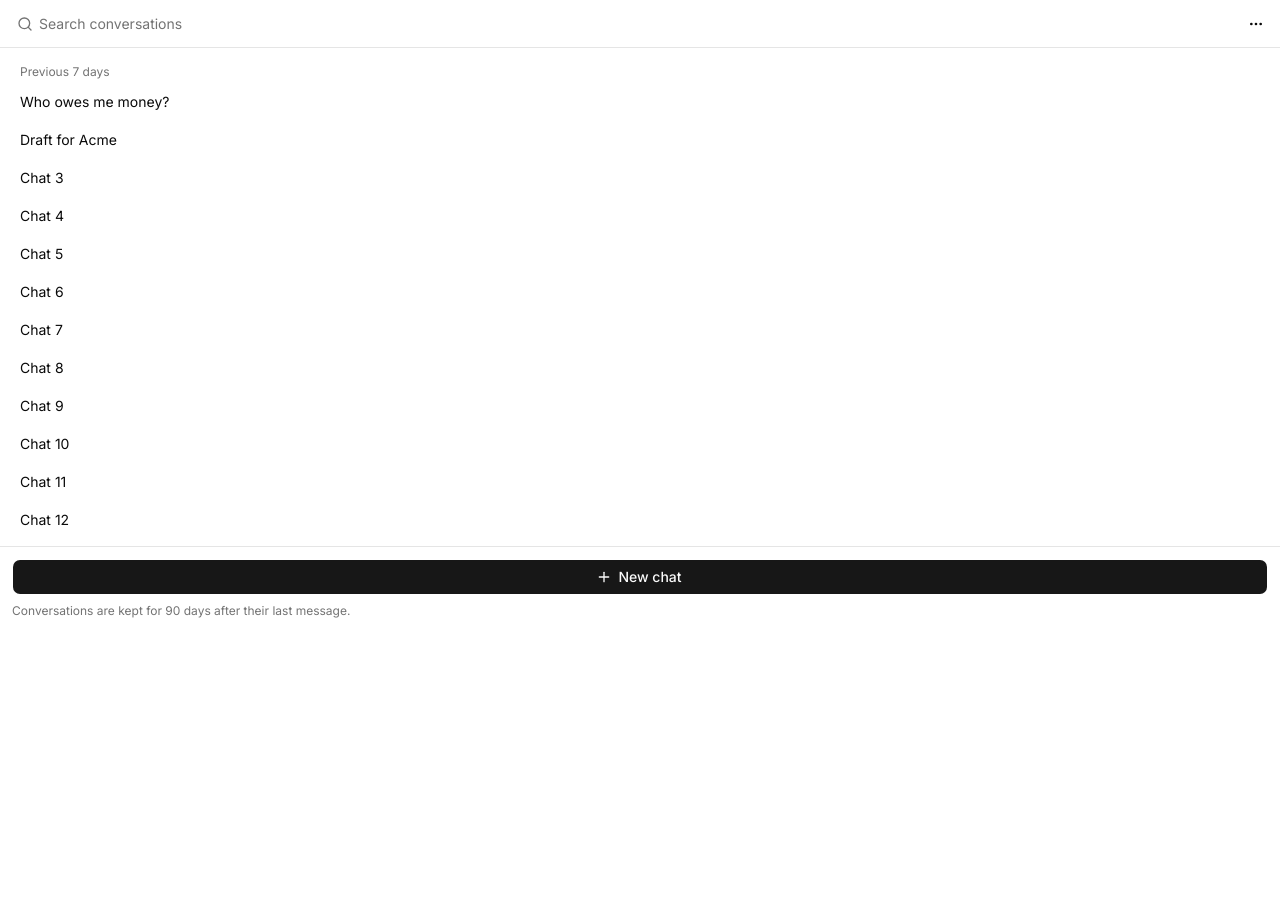
it: SCR-04 delete Conversations dialog (T30, AC-37) › default (all) from "Delete all" › cancelled: nothing is deleted
Click the button named "Conversation actions".
click(1256, 24)  # box [1240,8,1272,40]
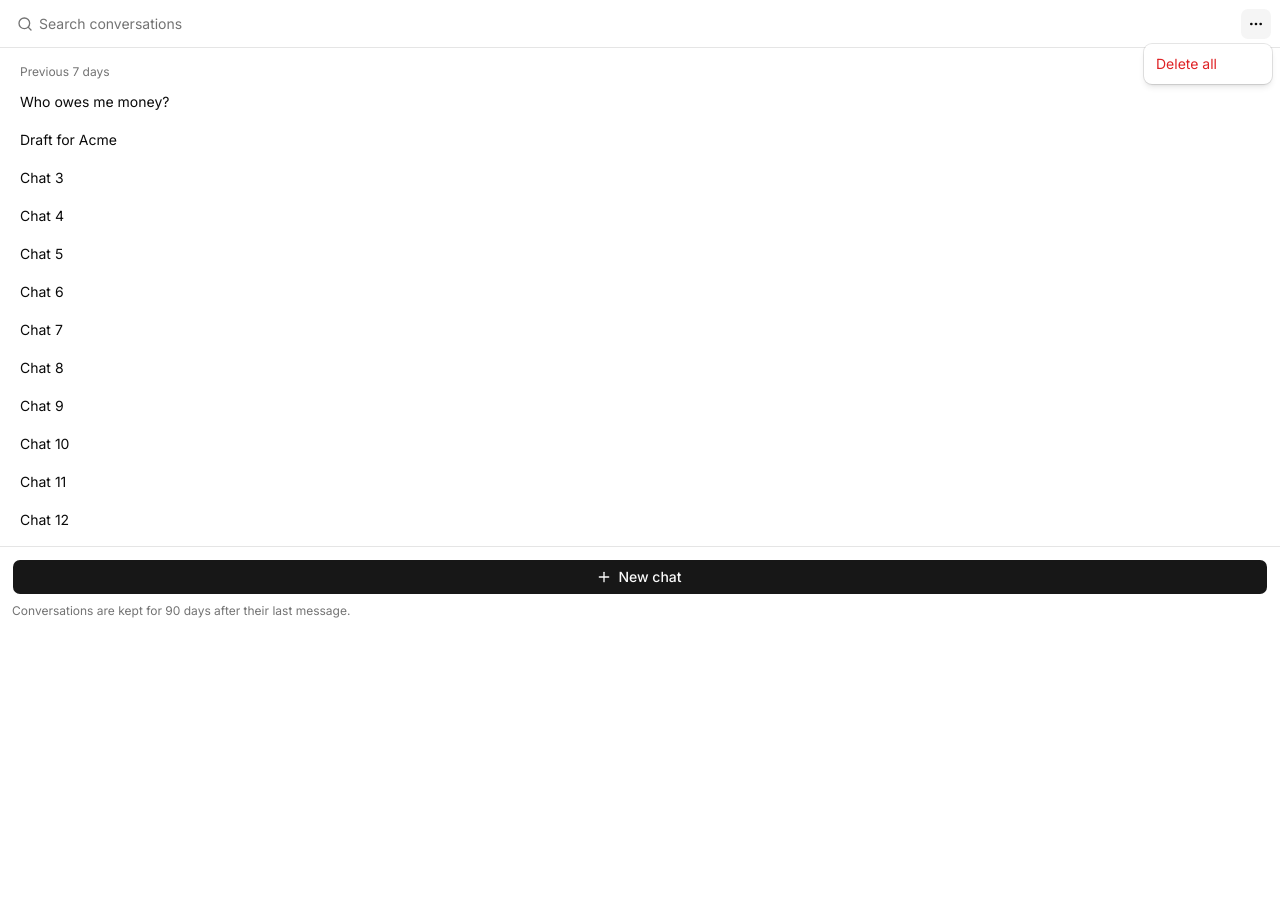
Click the menu item "Delete all".
click(1186, 64)  # box [1156,55,1217,72]
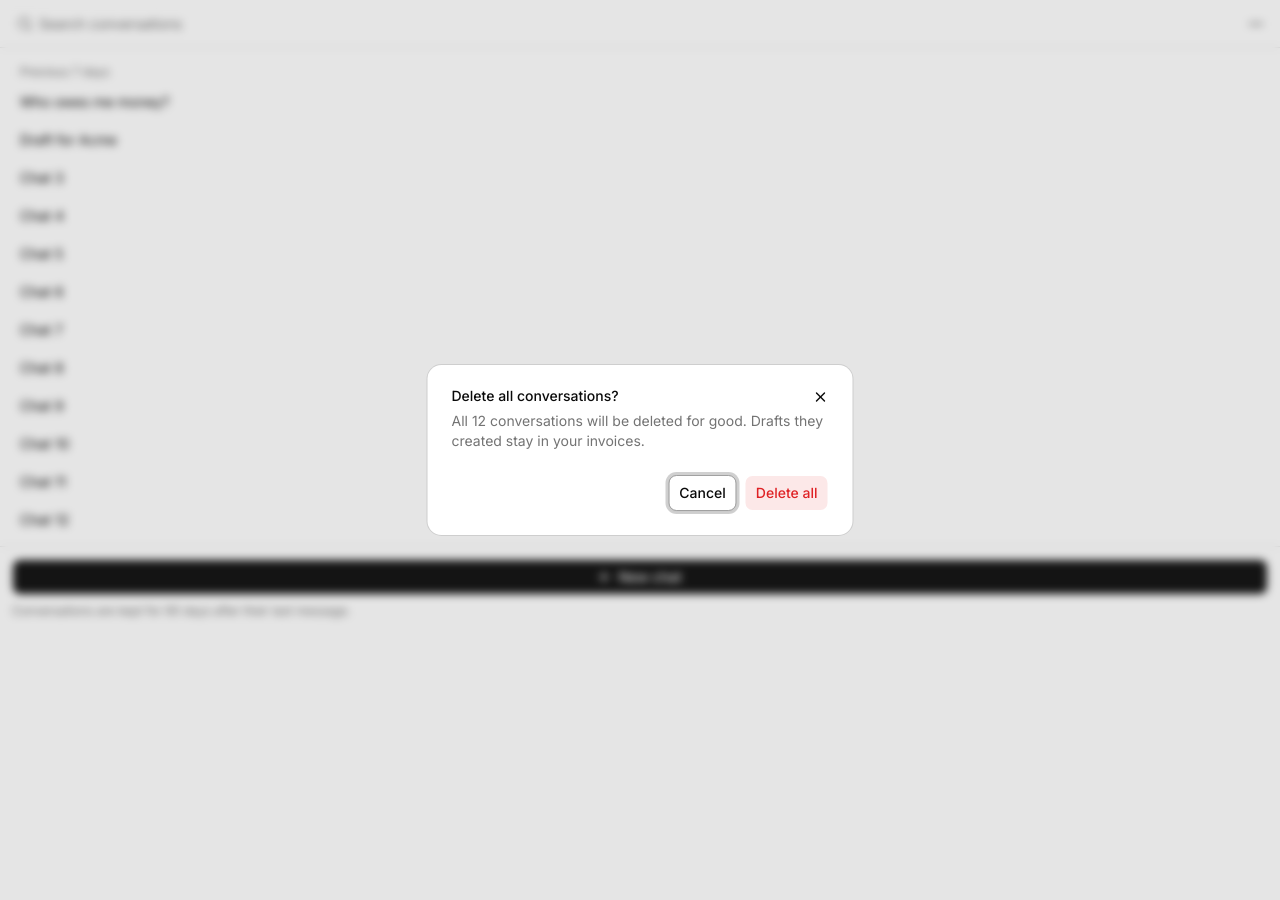
Click the button "Cancel".
click(703, 493)  # box [668,475,737,511]
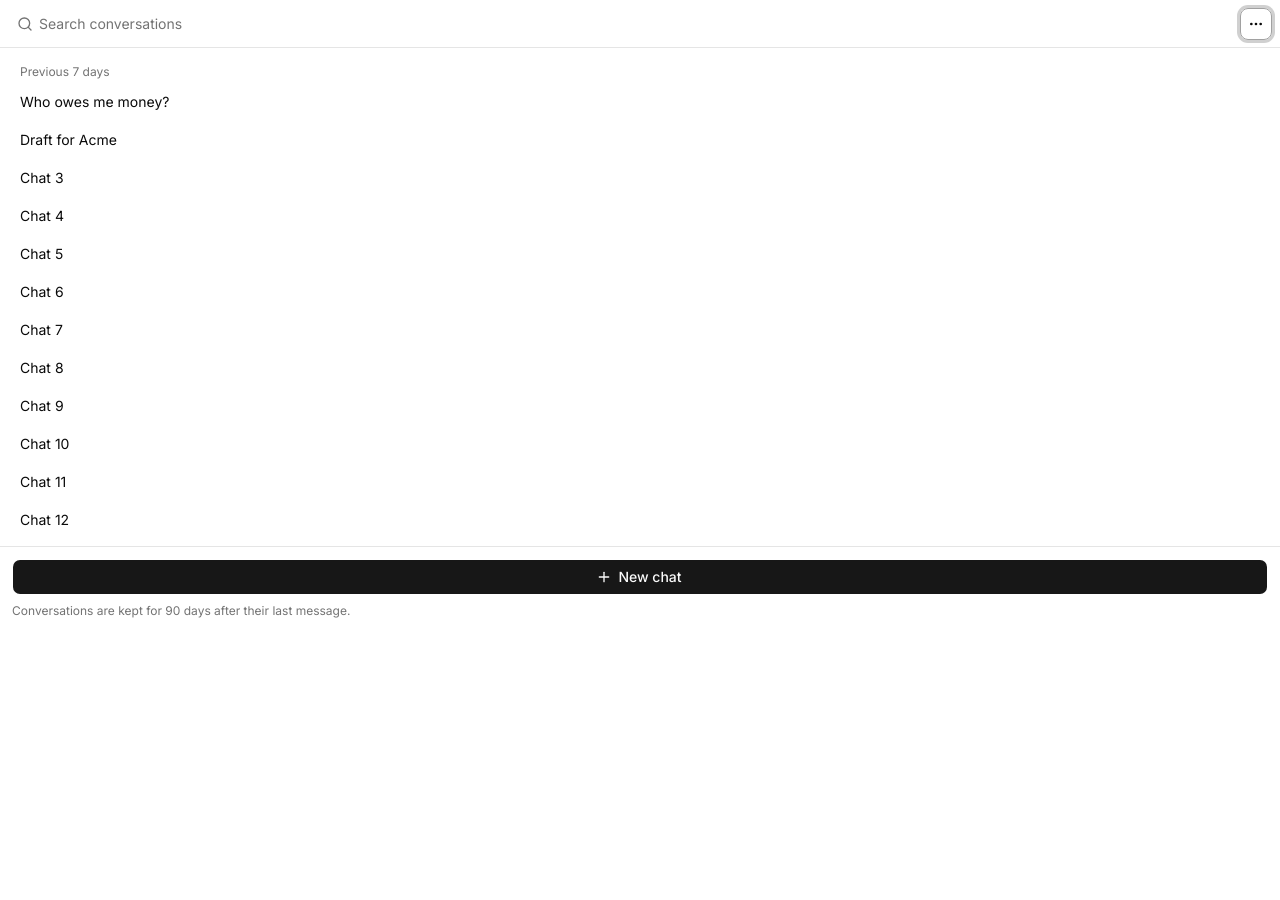
Expected: the dialog is gone
